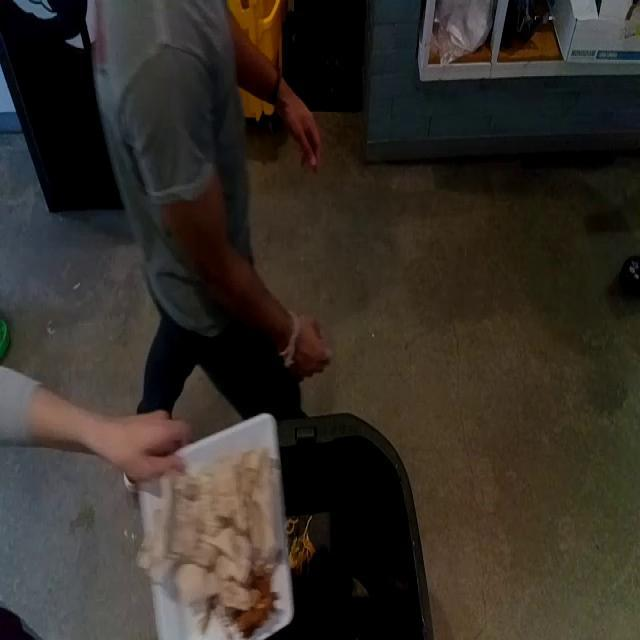Anorganik: (131, 411, 302, 639)
Organik: (211, 554, 287, 629)
